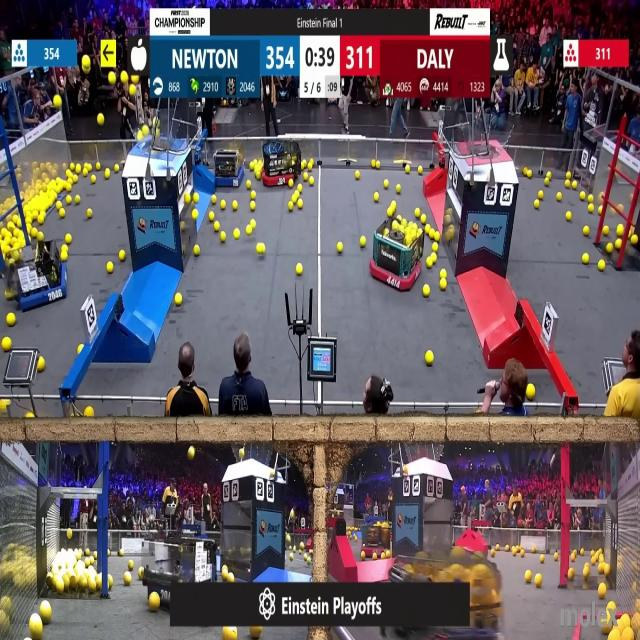ball_airborne: (31, 617, 43, 640), (81, 57, 90, 73), (54, 96, 62, 110), (98, 112, 105, 126), (108, 72, 116, 84), (188, 448, 195, 461), (120, 72, 128, 83), (142, 128, 149, 138), (130, 86, 137, 96), (132, 74, 138, 84), (137, 132, 143, 142), (240, 450, 245, 460), (68, 529, 73, 539), (155, 128, 159, 138)
ball_ground: (40, 602, 51, 622), (149, 593, 159, 612), (526, 384, 535, 400), (250, 626, 261, 639), (96, 574, 104, 590), (6, 313, 15, 327), (2, 338, 11, 352), (425, 351, 433, 365), (598, 586, 606, 600), (37, 357, 45, 371), (58, 582, 66, 595), (524, 570, 532, 582), (602, 624, 610, 636), (86, 409, 95, 419), (624, 631, 634, 640), (256, 243, 264, 254), (175, 292, 182, 304), (618, 224, 625, 236), (534, 574, 541, 586), (584, 565, 591, 577), (123, 572, 130, 584), (426, 256, 433, 268), (0, 399, 7, 411), (423, 285, 430, 296), (118, 250, 125, 261), (183, 192, 190, 203), (295, 265, 301, 277), (568, 568, 574, 580), (38, 212, 44, 224), (602, 225, 609, 235), (598, 262, 605, 272), (583, 253, 590, 263), (213, 221, 220, 231), (607, 601, 614, 611), (226, 572, 233, 582), (107, 263, 113, 274), (617, 239, 623, 250), (604, 564, 610, 575), (387, 208, 394, 217), (37, 233, 44, 242), (428, 231, 435, 240), (192, 246, 198, 256), (66, 235, 72, 245), (442, 280, 448, 290), (220, 232, 226, 242), (584, 225, 590, 235), (338, 243, 344, 253), (108, 574, 113, 586), (296, 200, 302, 210), (606, 244, 612, 254), (566, 212, 572, 222), (415, 208, 421, 218), (62, 252, 68, 262), (632, 236, 638, 246), (32, 230, 38, 240), (564, 180, 571, 188), (360, 237, 365, 248), (191, 209, 196, 220), (139, 567, 144, 578), (596, 565, 601, 576), (250, 202, 256, 211), (235, 231, 241, 240), (556, 191, 562, 200), (432, 243, 438, 252), (372, 193, 378, 202), (75, 166, 81, 175), (66, 182, 72, 191), (220, 200, 225, 210), (88, 209, 93, 219), (442, 270, 447, 280), (192, 192, 197, 202), (130, 560, 135, 570), (539, 554, 544, 564), (75, 196, 80, 206), (421, 214, 426, 224), (27, 414, 34, 421), (250, 190, 256, 198), (579, 191, 585, 199), (250, 219, 256, 227), (406, 165, 412, 173), (566, 172, 572, 180), (291, 192, 297, 200), (72, 175, 78, 183), (66, 170, 72, 178), (78, 345, 84, 353), (255, 172, 261, 180), (82, 168, 88, 176), (380, 554, 388, 560), (299, 162, 305, 170), (61, 209, 66, 218), (571, 180, 576, 189), (355, 171, 360, 180), (555, 553, 560, 562), (589, 193, 594, 202), (212, 194, 217, 203), (105, 170, 110, 179), (244, 224, 249, 233), (534, 200, 539, 209), (434, 233, 439, 242), (309, 163, 314, 172), (370, 161, 375, 170), (425, 224, 430, 233), (418, 168, 424, 175), (598, 207, 604, 214), (545, 172, 551, 179), (390, 202, 396, 209), (83, 560, 89, 567), (234, 201, 238, 211), (538, 190, 543, 198), (589, 205, 594, 213), (288, 204, 293, 212), (384, 180, 389, 188), (67, 197, 72, 205), (297, 183, 302, 191), (527, 170, 532, 178), (376, 162, 381, 170), (180, 222, 185, 230), (592, 558, 597, 566), (210, 212, 214, 221), (92, 176, 97, 183), (114, 166, 119, 173), (307, 180, 312, 187), (371, 554, 376, 561), (570, 555, 575, 562), (249, 164, 254, 171), (396, 184, 400, 192), (360, 553, 364, 561), (245, 184, 249, 192), (544, 178, 548, 186), (97, 164, 101, 172), (288, 180, 292, 188), (58, 202, 62, 210), (289, 554, 293, 561), (532, 545, 536, 552), (580, 551, 584, 558), (305, 555, 309, 562), (299, 542, 303, 549), (521, 552, 525, 559), (119, 551, 123, 557), (504, 544, 508, 550), (108, 551, 111, 557)
goal: (460, 118, 517, 158), (124, 118, 184, 153)
robot_blue: (435, 550, 506, 640), (142, 530, 221, 610), (8, 238, 69, 311), (212, 141, 244, 189)
robot_red: (370, 216, 424, 292), (262, 138, 304, 185), (359, 518, 392, 557)
